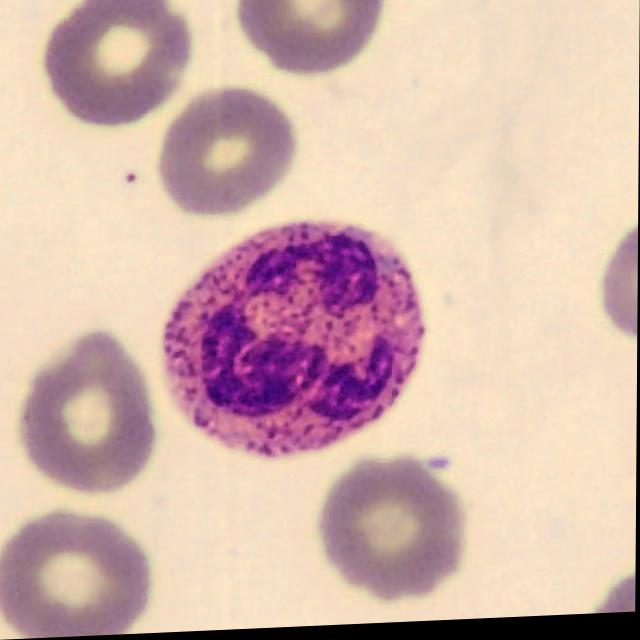Neutrofilo segmentado: (163, 223, 428, 462)
